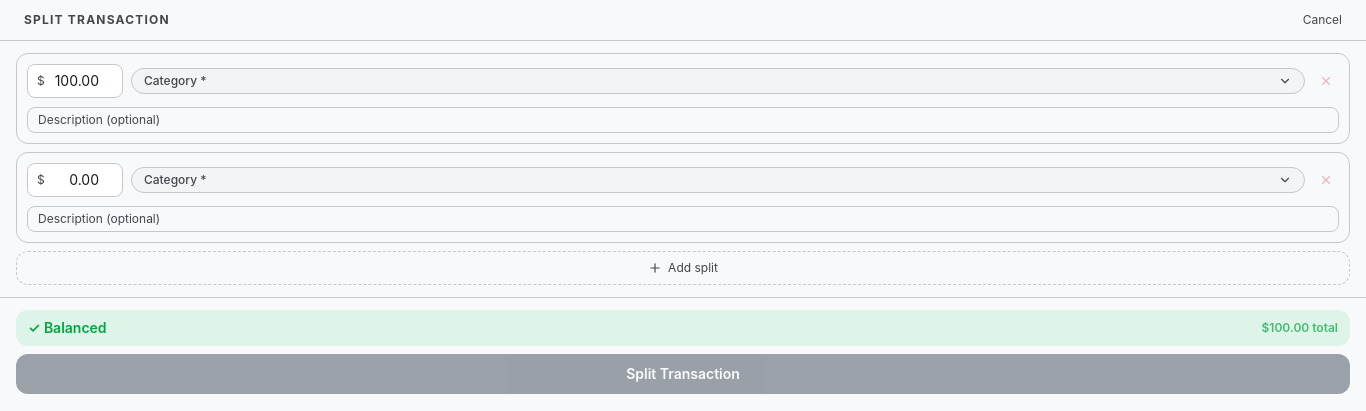
it: SplitTransactionEditor › shows remainder when amounts do not sum to parent
Step 1. Replace the text in the 2nd number field named "Amount" with "40" → (75, 180), box [27,163,123,197]
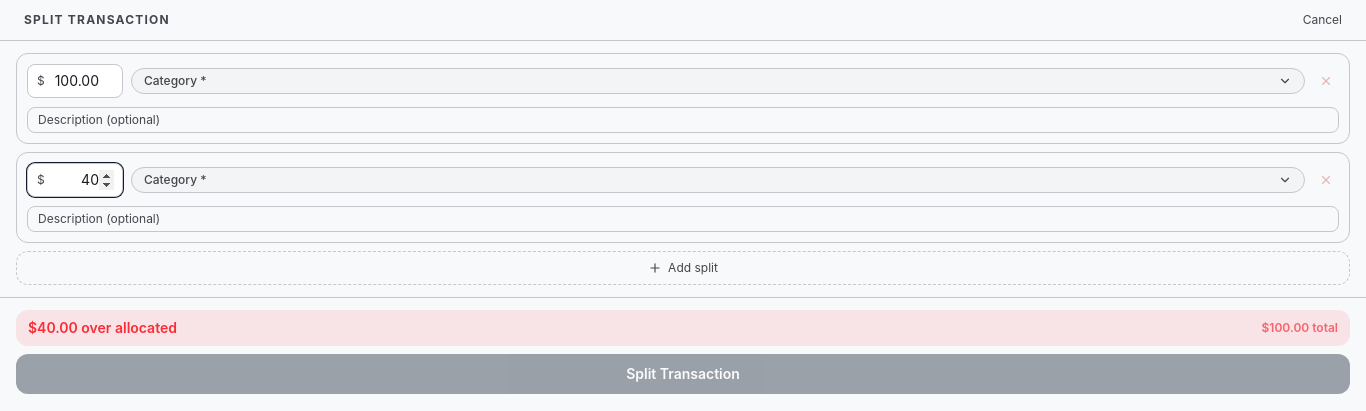
Now the text "$40.00 over allocated" is shown, box [28,318,177,338]
